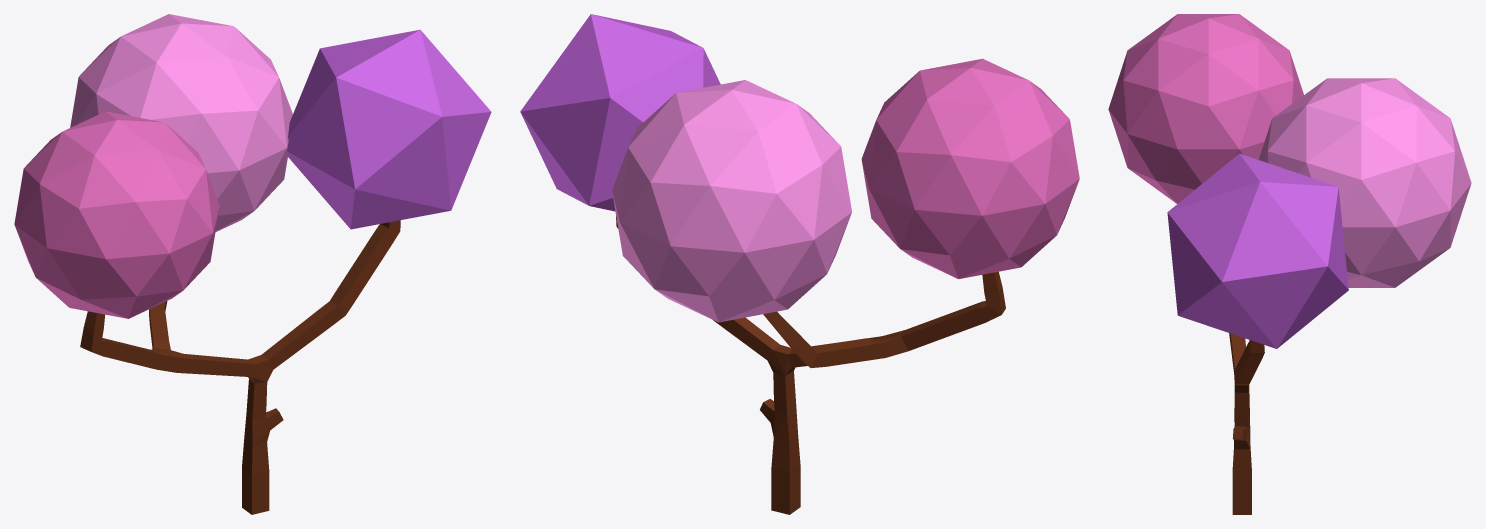
The model's file is Trees03.fbx.
The picture shows the model from 3 angles, left to right: view 1: azimuth 30°, elevation 25°; view 2: azimuth 150°, elevation 25°; view 3: azimuth 270°, elevation 25°; orthographic projection. The views are drawn at different scales.
Parts seen in each view (by area): view 1: Icosphere; view 2: Icosphere; view 3: Icosphere.
Part boxes in pixels (x1,y1,x2,y2): Icosphere: (14, 14, 491, 514); Icosphere: (520, 14, 1079, 514); Icosphere: (1108, 14, 1471, 514).
Bounding box in the file's own units: 265 × 240 × 187.
